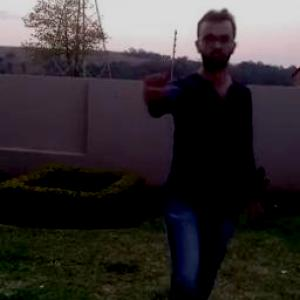takeoff-hand: (130, 59, 169, 96)
